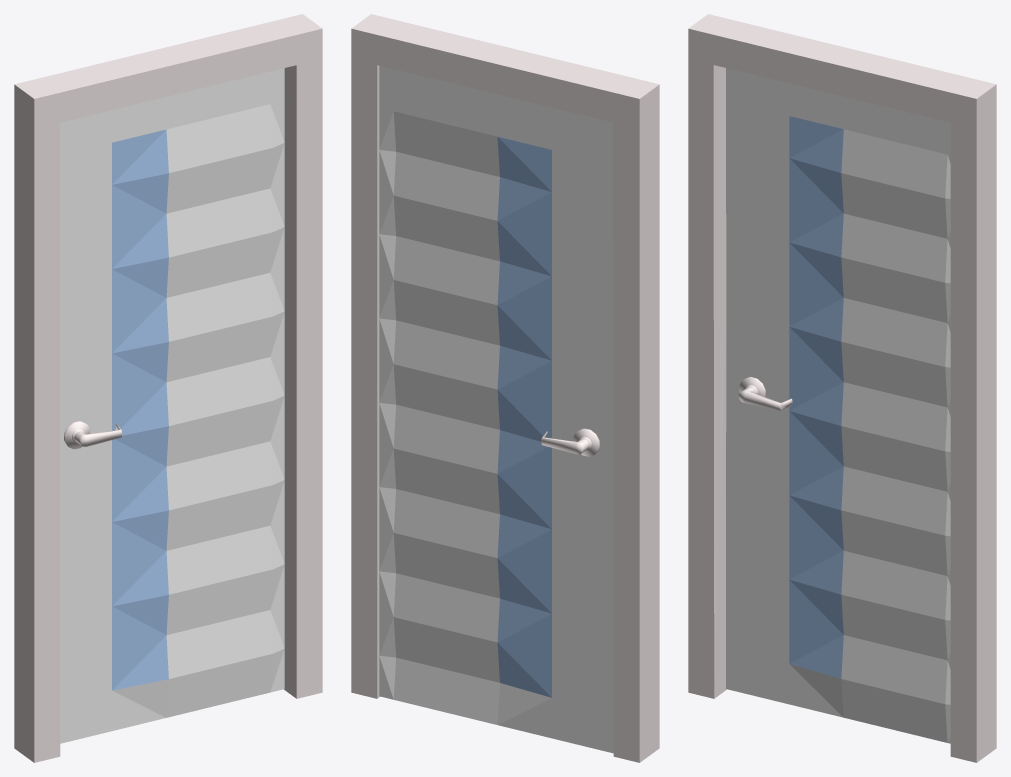
Rendered from bathroom_door.dae.
3 renders of one model, left to right at view 1: azimuth 30°, elevation 25°; view 2: azimuth 150°, elevation 25°; view 3: azimuth 330°, elevation 25°, orthographic.
Parts seen in each view (by area): view 1: Door, Frame, Handle; view 2: Door, Frame, Handle; view 3: Door, Frame, Handle.
Part boxes in pixels (x1=…): Door: x1=59, y1=68, x2=284, y2=743; Frame: x1=14, y1=14, x2=322, y2=762; Handle: x1=64, y1=421, x2=122, y2=449; Door: x1=379, y1=65, x2=613, y2=753; Frame: x1=351, y1=14, x2=659, y2=762; Handle: x1=541, y1=428, x2=599, y2=456; Door: x1=726, y1=68, x2=950, y2=743; Frame: x1=688, y1=14, x2=996, y2=762; Handle: x1=738, y1=377, x2=792, y2=410.
Size of the model in its own units: 1 by 0.1719 by 2.2.
